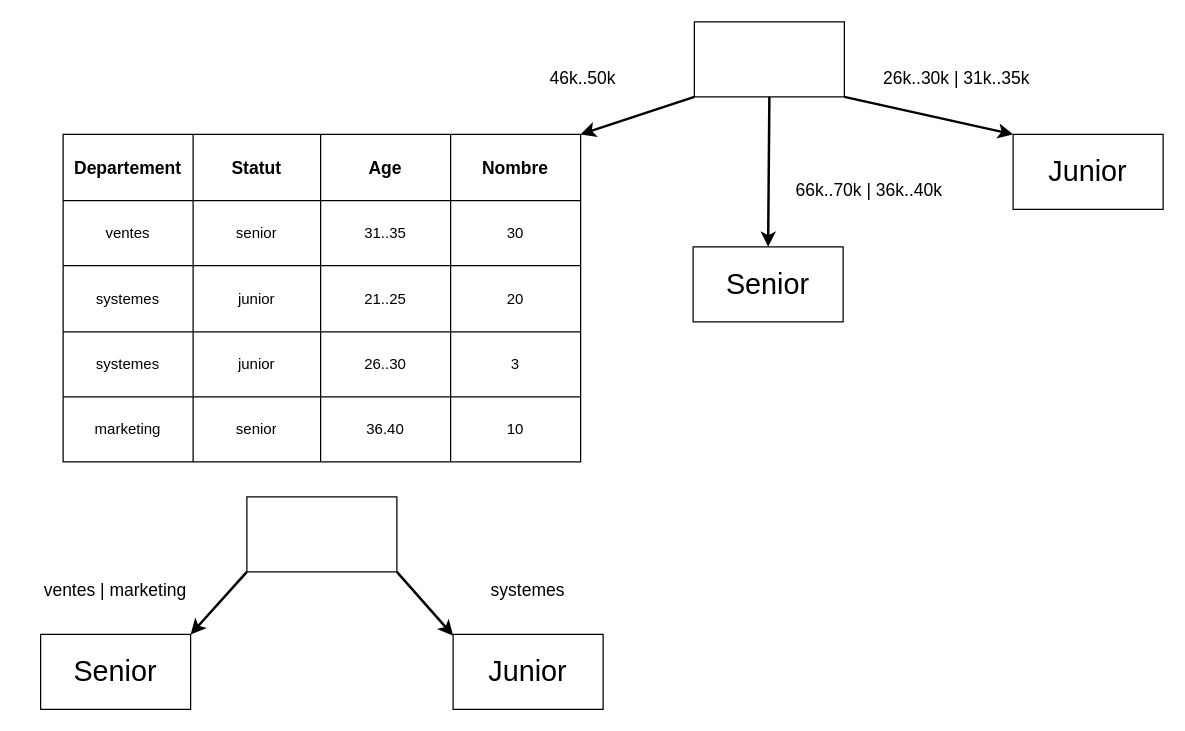
The diagram is 1185 pixels wide and 731 high, and some of its shapes have lost their labels. Here are the shapes that lost their labels. From the top down, the box of each, then its label:
(693, 21, 844, 97): Salaire
(246, 496, 397, 572): Dep
